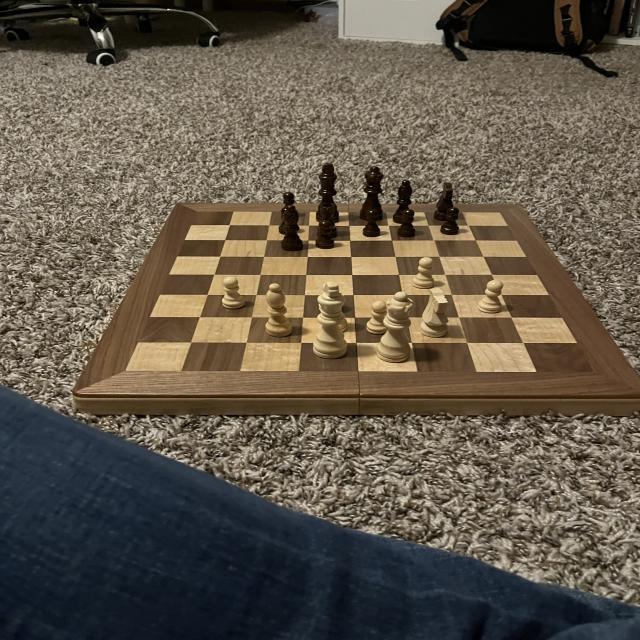bishop: (280, 204, 307, 252), (391, 179, 414, 224)
black-bishop: (315, 160, 342, 223)
black-king: (432, 180, 458, 221)
black-knight: (277, 204, 301, 237), (438, 207, 464, 236), (314, 219, 337, 250), (276, 191, 302, 218), (395, 208, 419, 237), (361, 206, 382, 238)
black-pawn: (358, 167, 387, 219)
black-queen: (314, 200, 342, 240)
black-rook: (261, 282, 294, 339)
white-bishop: (312, 283, 351, 361)
white-king: (419, 288, 452, 340)
white-knight: (475, 277, 506, 316), (364, 300, 392, 334), (220, 276, 246, 311), (320, 281, 346, 315), (411, 256, 436, 290)
white-pawn: (378, 291, 411, 365)
white-queen: (317, 293, 350, 335)
